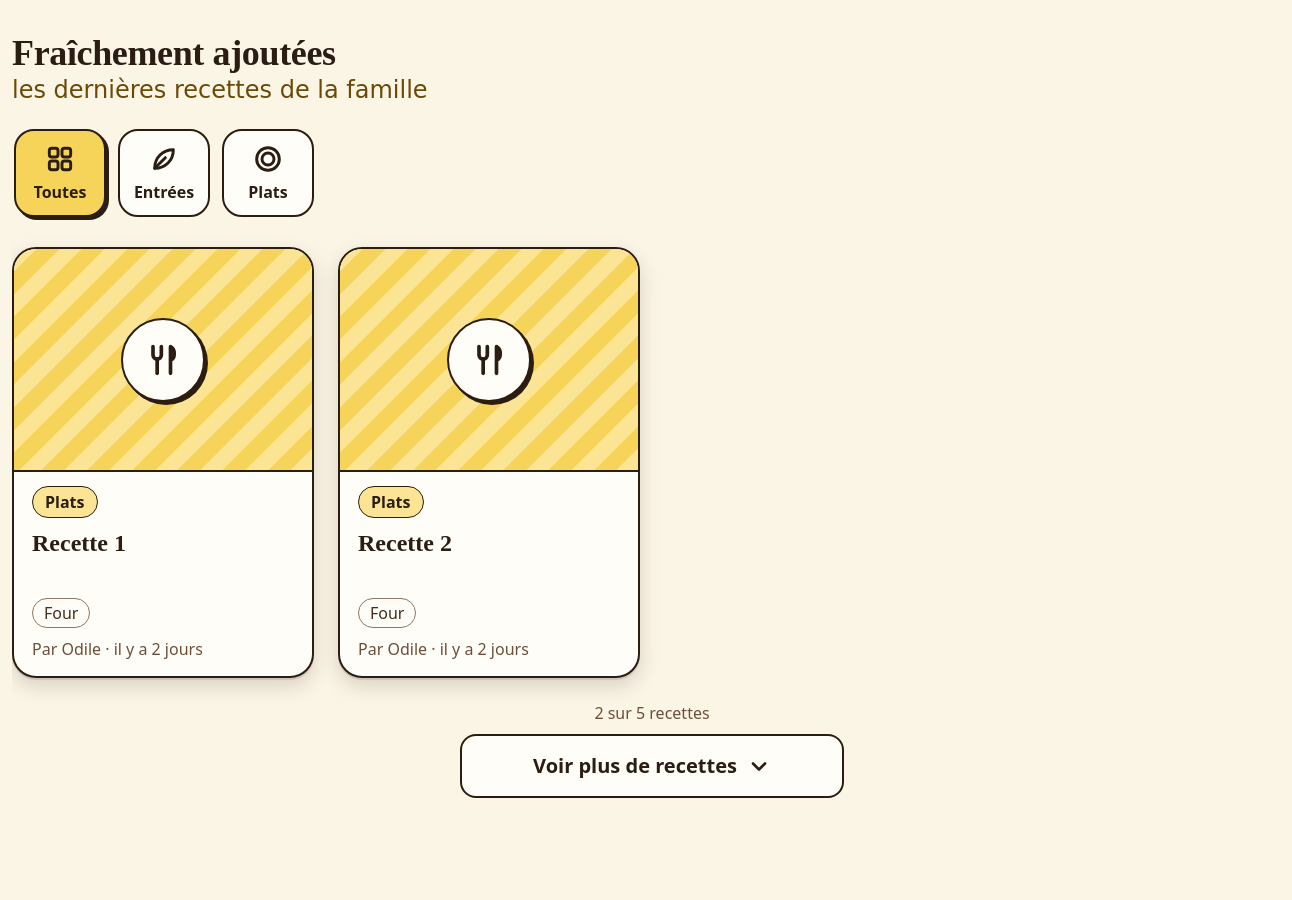
HomeScreen › « Voir plus de recettes » › keeps the recipes already there, says what went wrong, and loads the page on a second try
Click the button "Voir plus de recettes" at (652, 766), box [460,734,844,798]
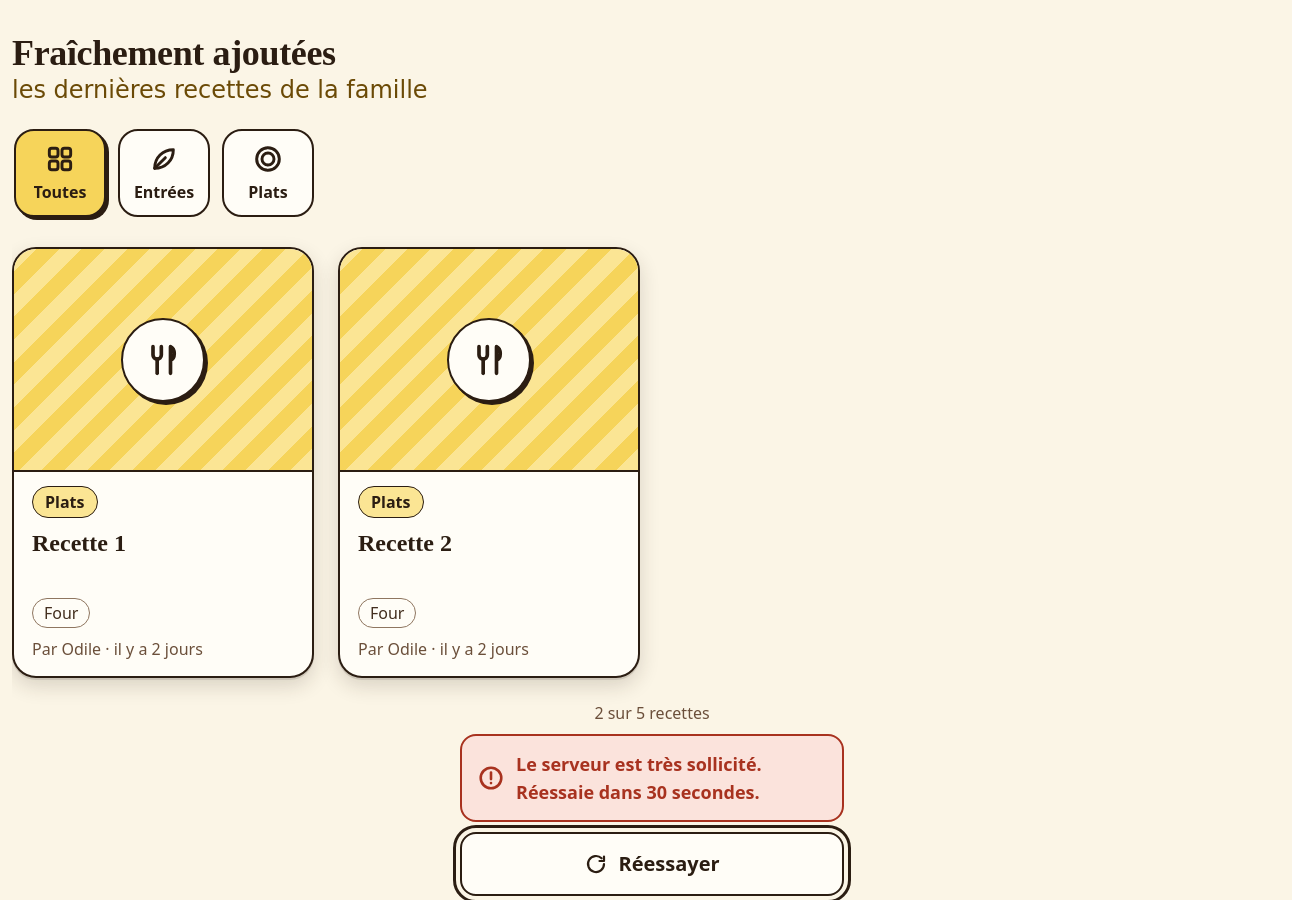
Expected: the link "Recette 2" is shown, [338,247,640,678]
Now the message reads "Le serveur est très sollicité. Réessaie dans 30 secondes.", box [516,752,762,804]
Click the button "Réessayer" at (652, 864), box [460,832,844,896]
(page scrolled)
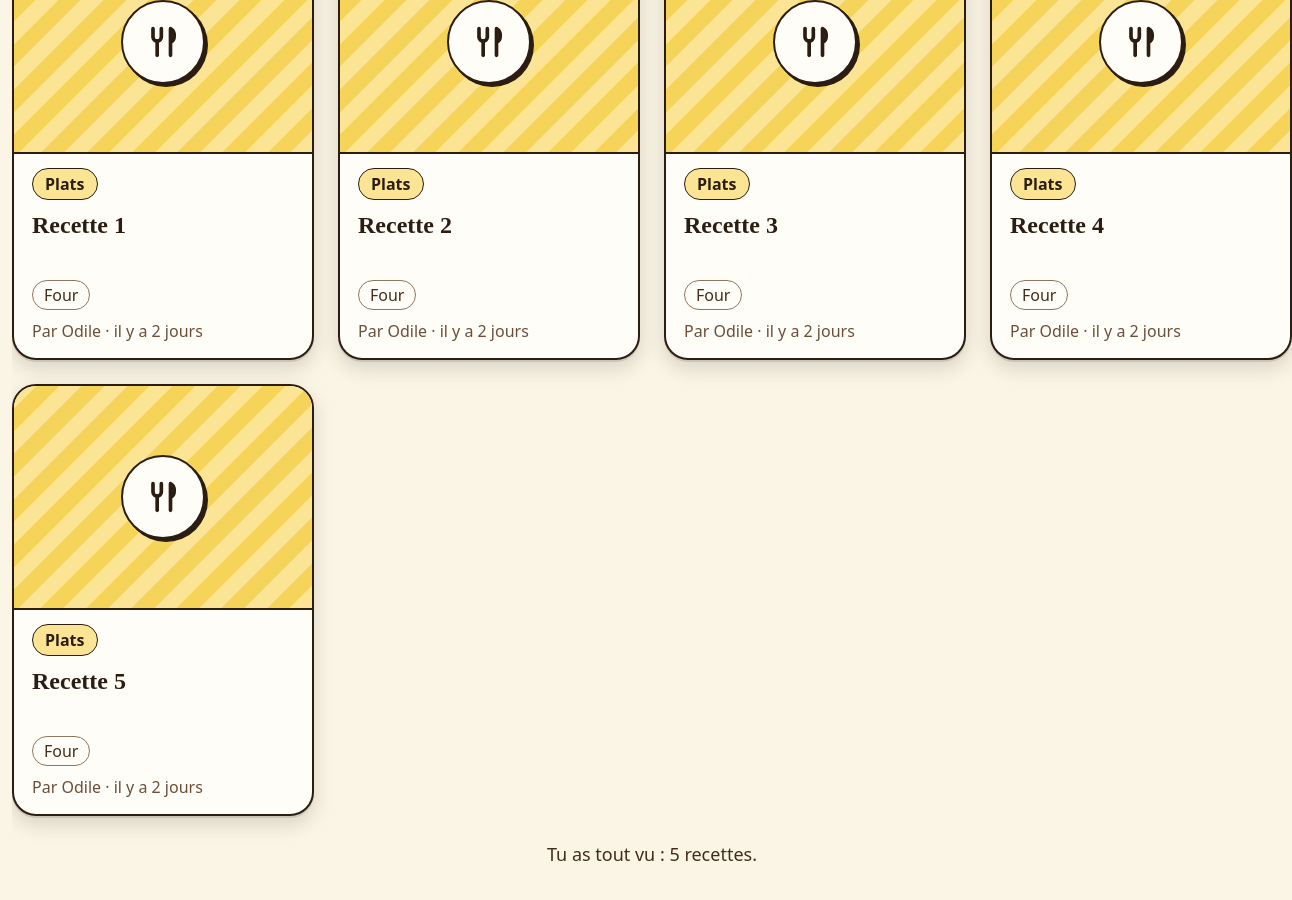
Now the link "Recette 5" is shown, box [12,384,314,816]
Now the message "Le serveur est très sollicité. Réessaie dans 30 secondes." is gone
